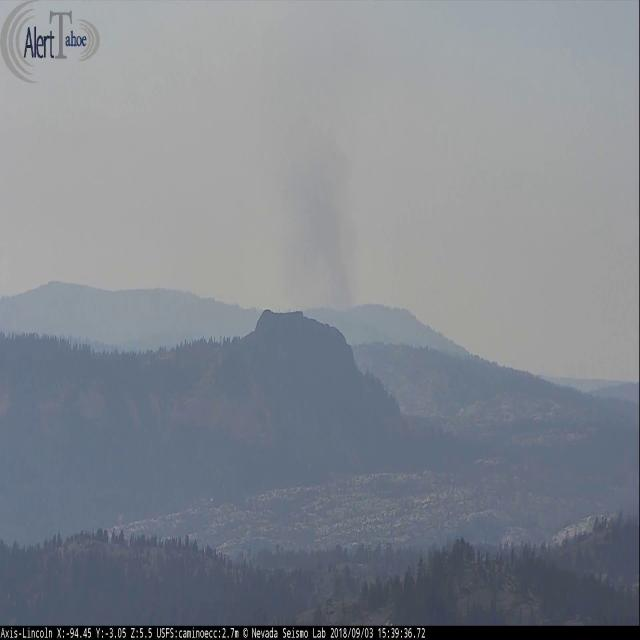smoke: (260, 101, 357, 332)
